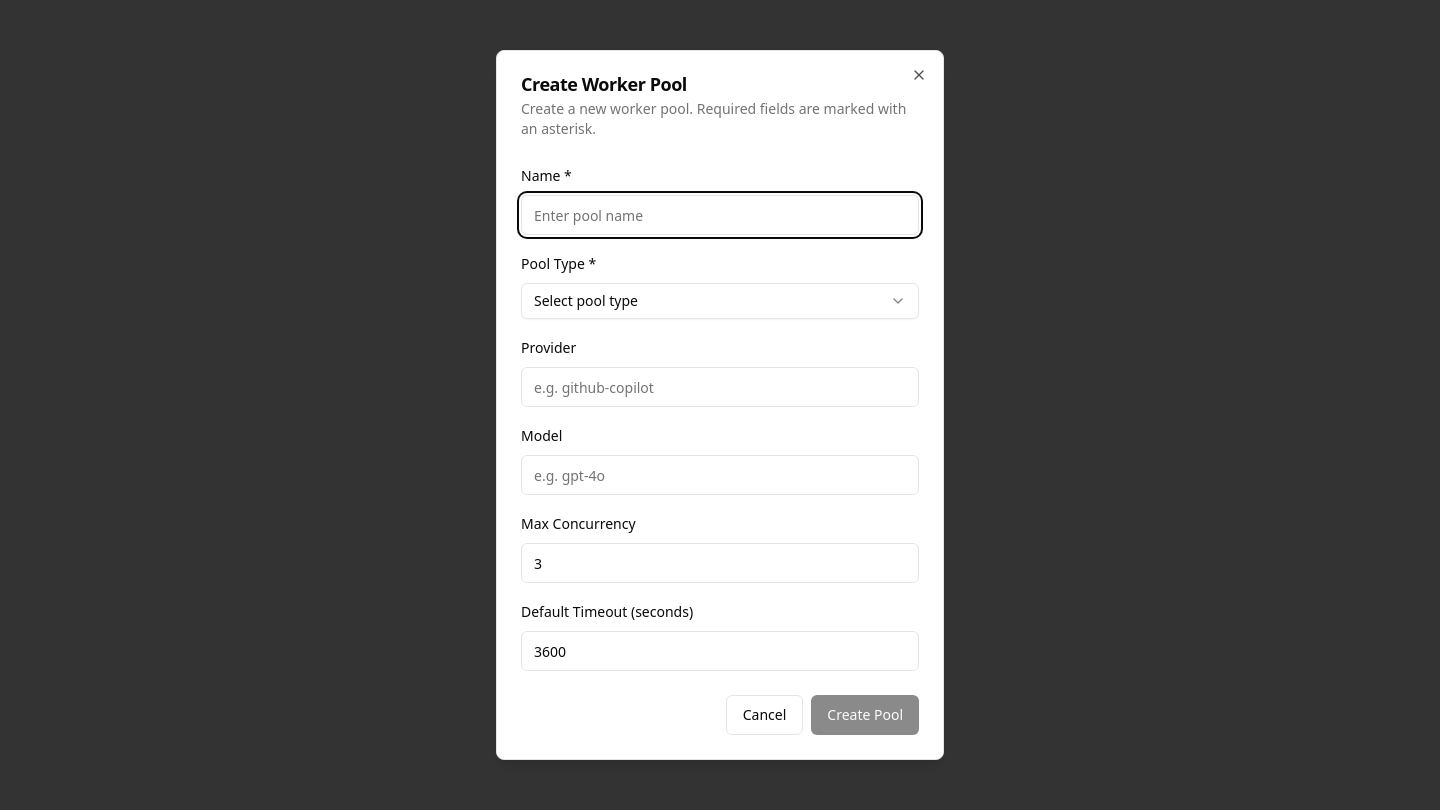
it: CreatePoolDialog › clears error when user types in a field
Type "Fail Pool" into the field with test id "create-pool-name". click: [720, 215]
box: [521,195,919,235]
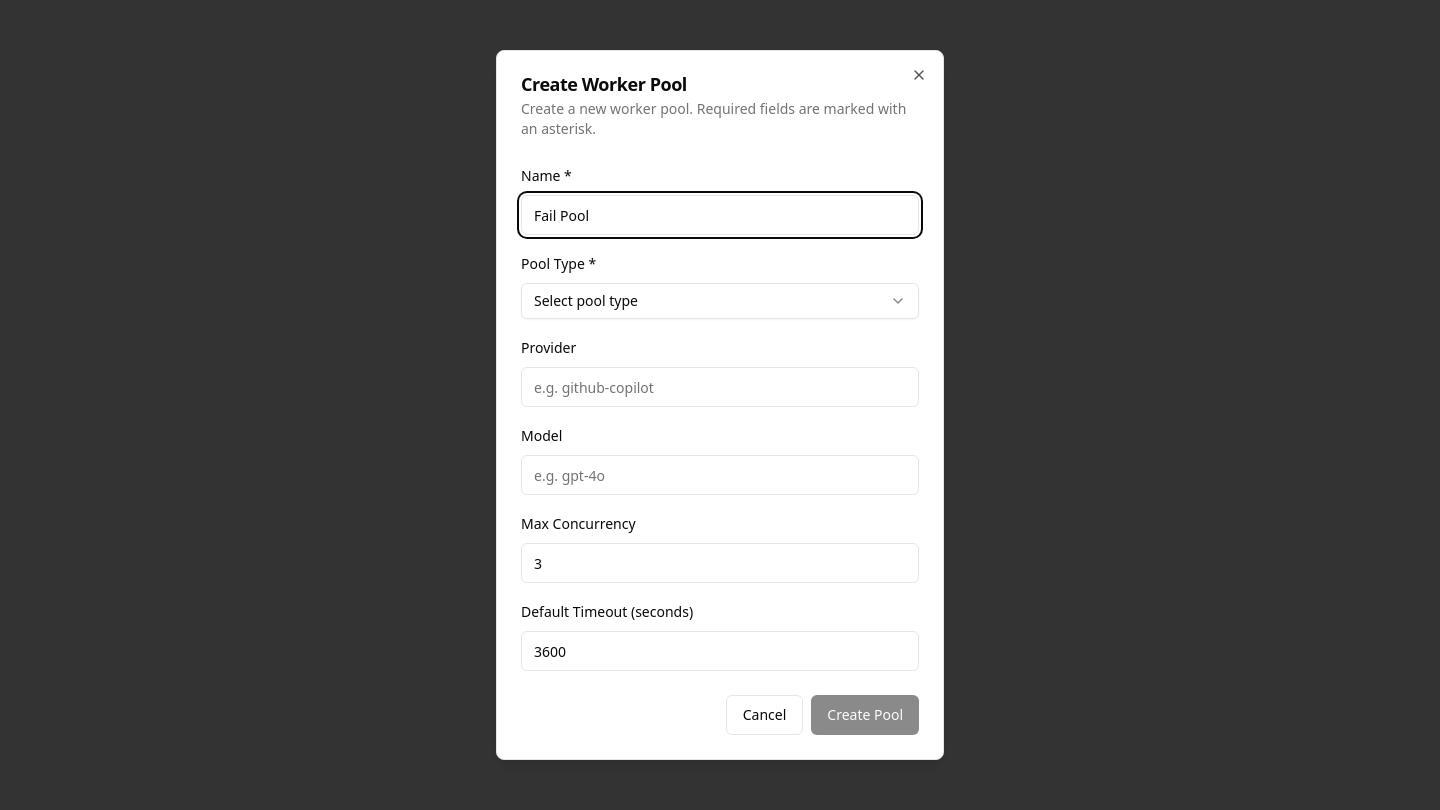
Click the dropdown with test id "create-pool-type". click: [586, 300]
box: [521,283,919,319]
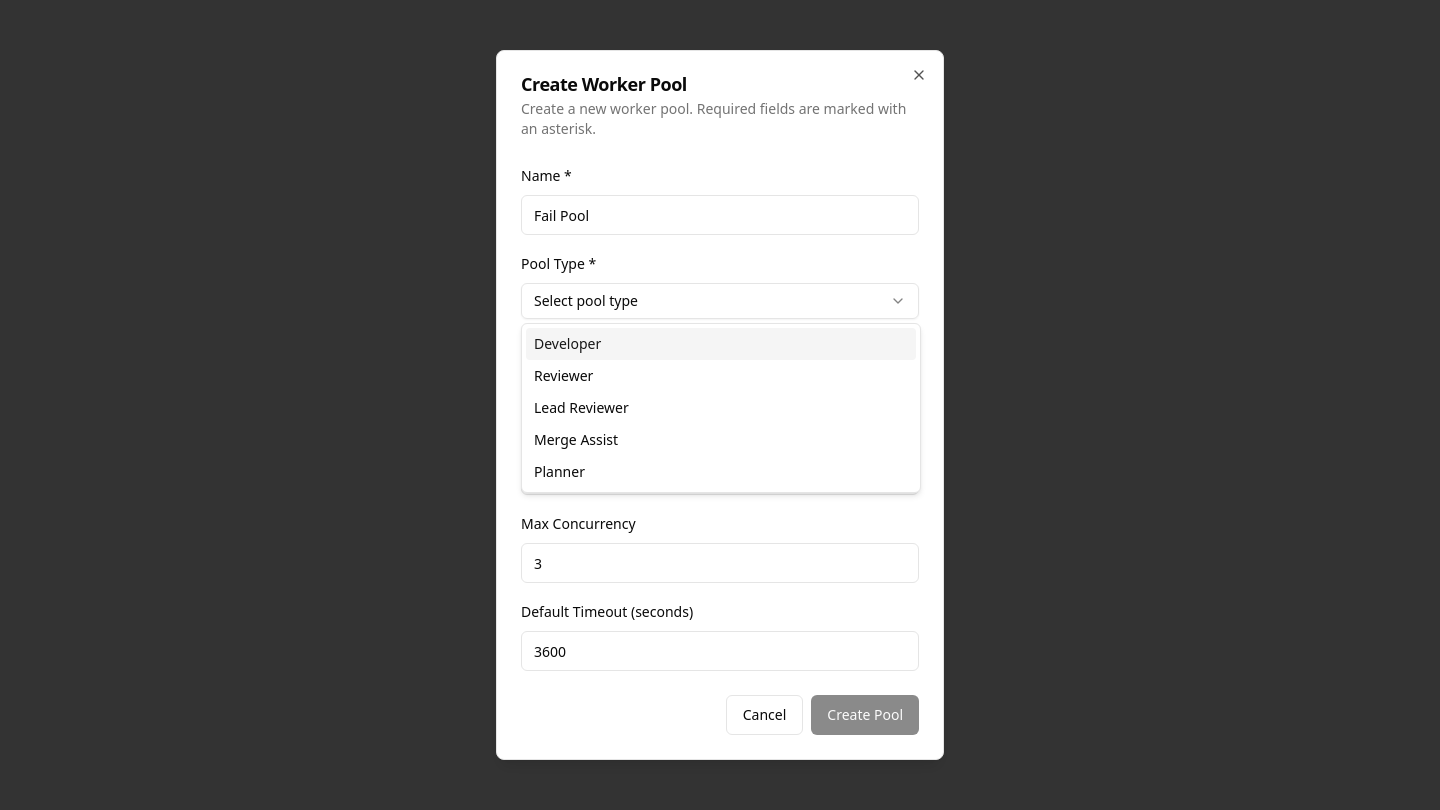
Expected: the option with test id "create-pool-type-developer" is shown
Click the option with test id "create-pool-type-developer". click: [568, 344]
box: [526,328,916,360]
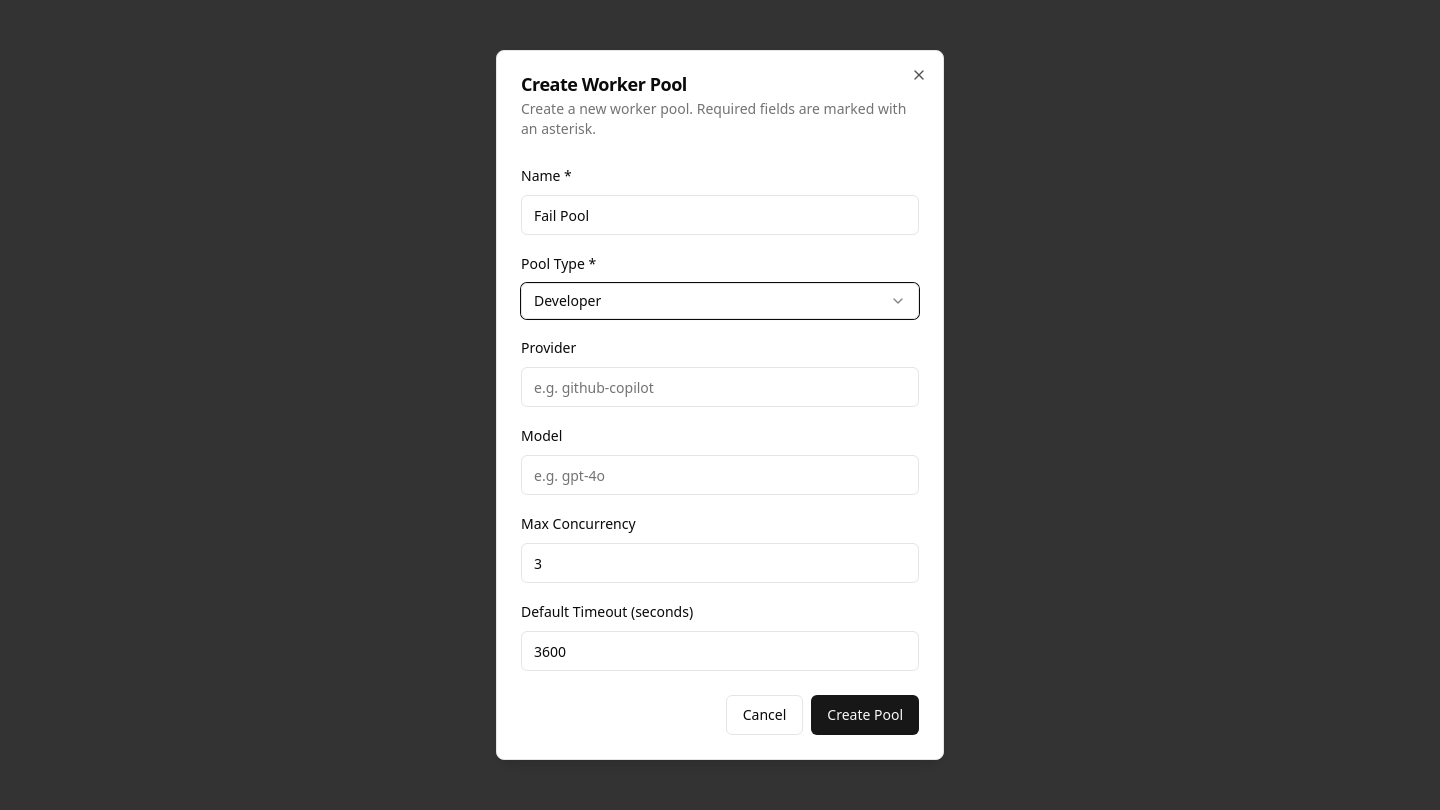
Expected: the button with test id "create-pool-submit" is enabled
Click the button with test id "create-pool-submit". click: [865, 715]
box: [811,695,919,735]
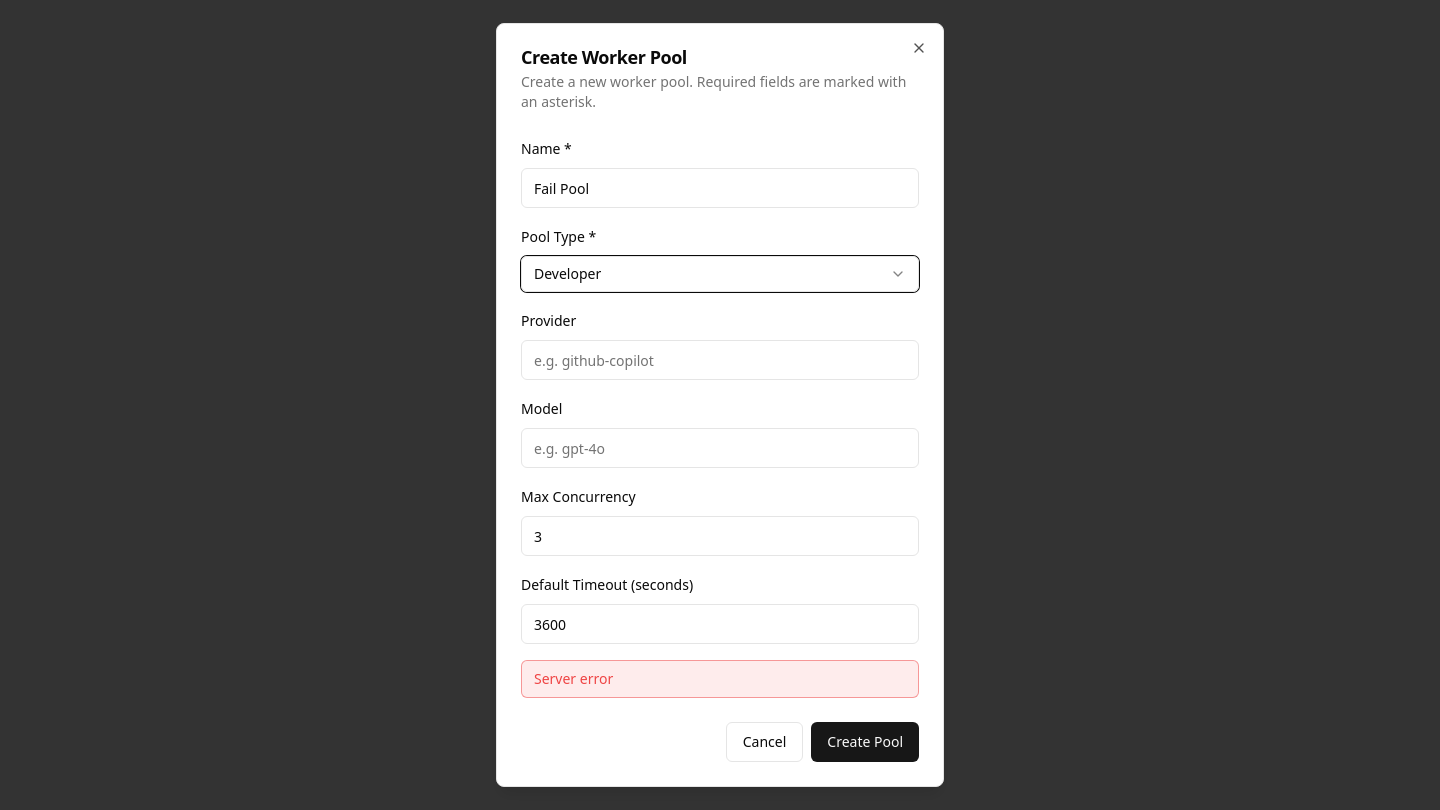
Expected: the message "Server error" is shown, [521,660,919,698]
Replace the text in the field with test id "create-pool-name" with "Retry Pool". click: [720, 188]
box: [521,168,919,208]
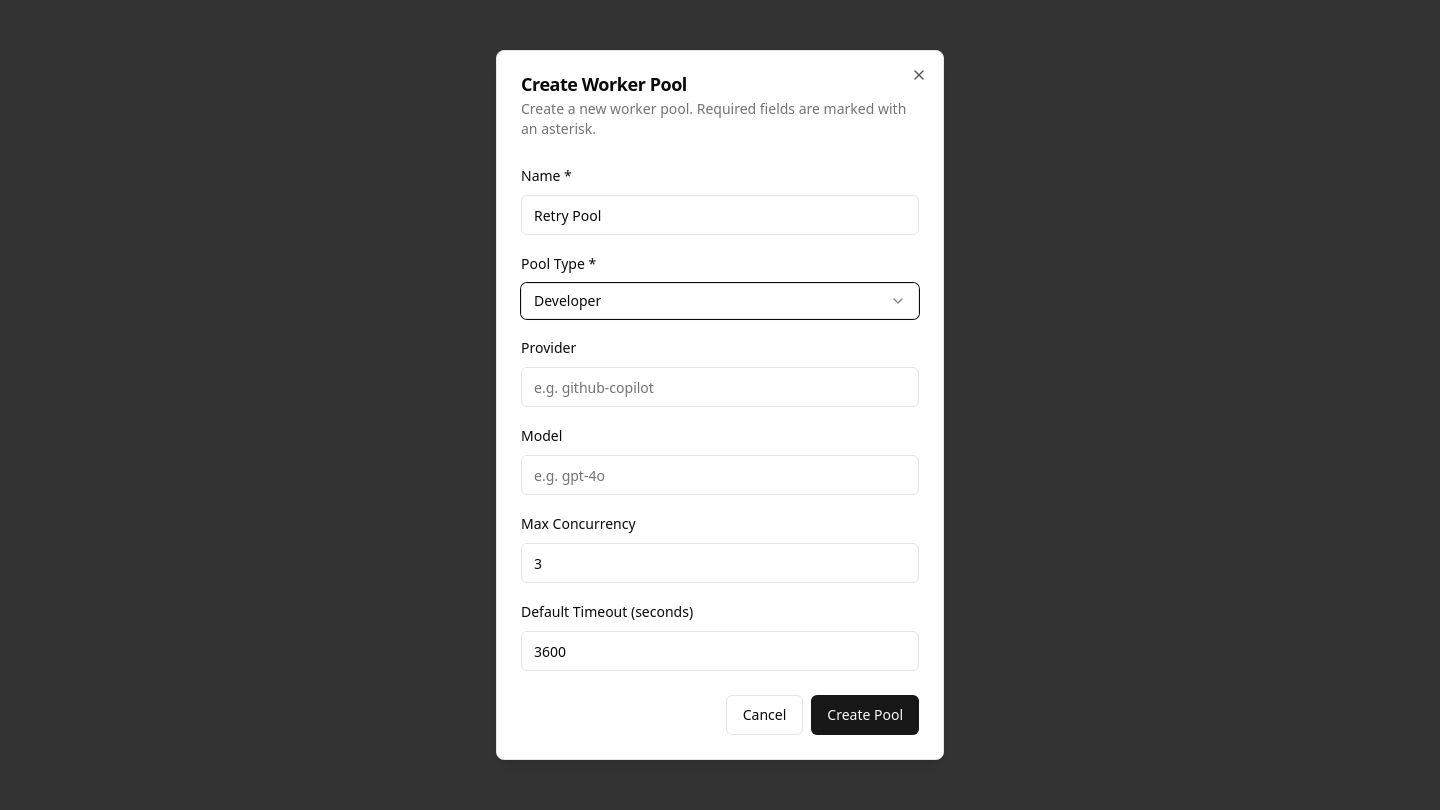
Expected: the message with test id "create-pool-error" is gone
